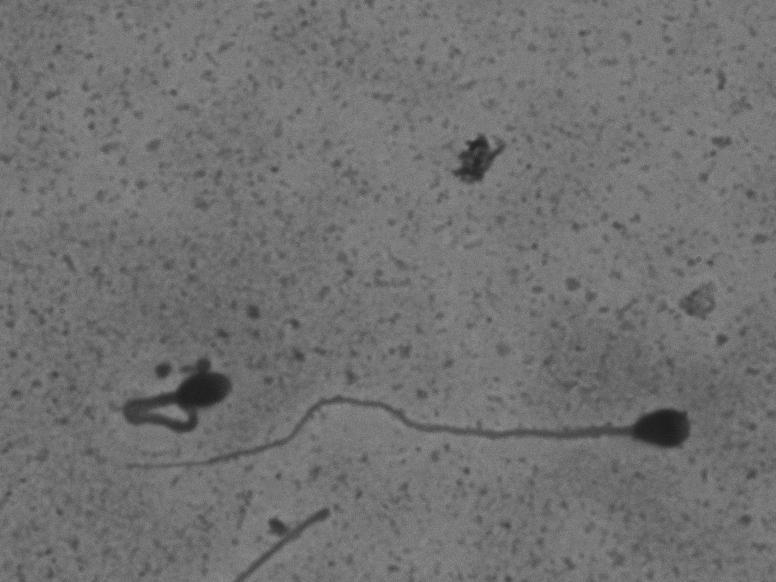Abnormal: (107, 380, 732, 485), (111, 341, 240, 440)
